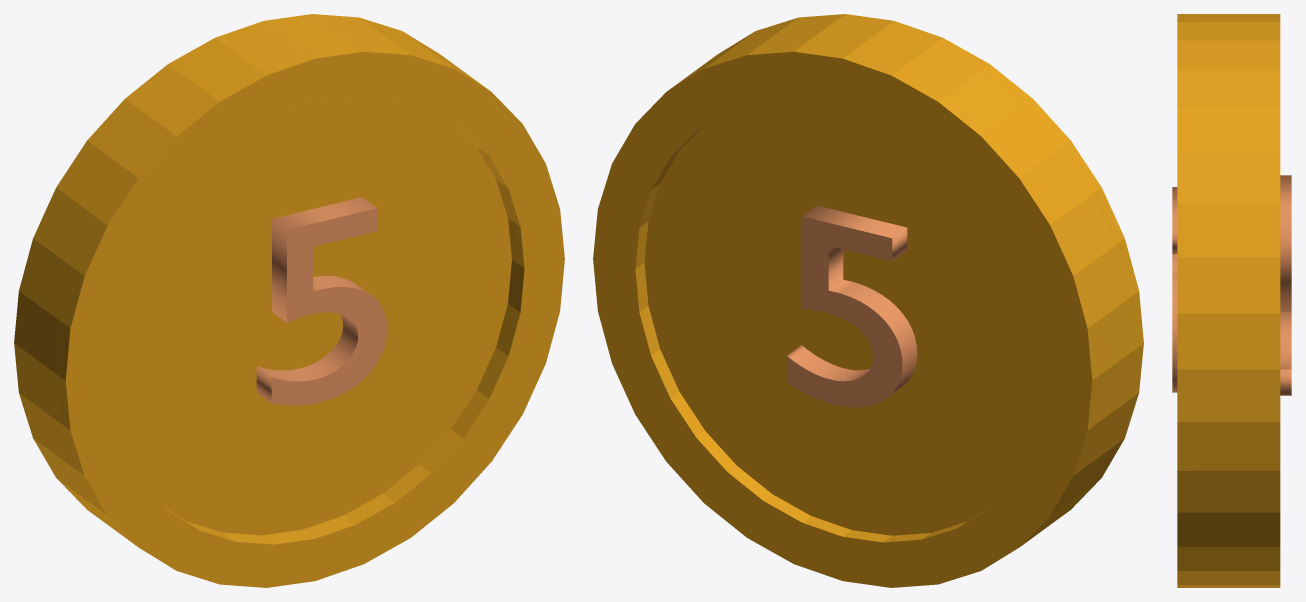
The model's file is moeda3.fbx.
3 views of the same model, side by side, from view 1: azimuth 30°, elevation 25°; view 2: azimuth 150°, elevation 25°; view 3: azimuth 270°, elevation 25° (orthographic).
Parts seen in each view (by area): view 1: Cylinder, Object.002; view 2: Cylinder, Object.001; view 3: Cylinder, Object.001, Object.002.
Part boxes in pixels (left/top/right/bottom): Cylinder: left=14, top=14, right=564, bottom=587; Object.002: left=256, top=197, right=387, bottom=405; Cylinder: left=593, top=14, right=1143, bottom=587; Object.001: left=787, top=205, right=917, bottom=407; Cylinder: left=1177, top=14, right=1280, bottom=587; Object.001: left=1280, top=175, right=1291, bottom=395; Object.002: left=1172, top=187, right=1177, bottom=392.
Bounding box in the file's own units: 200 × 200 × 41.56.
